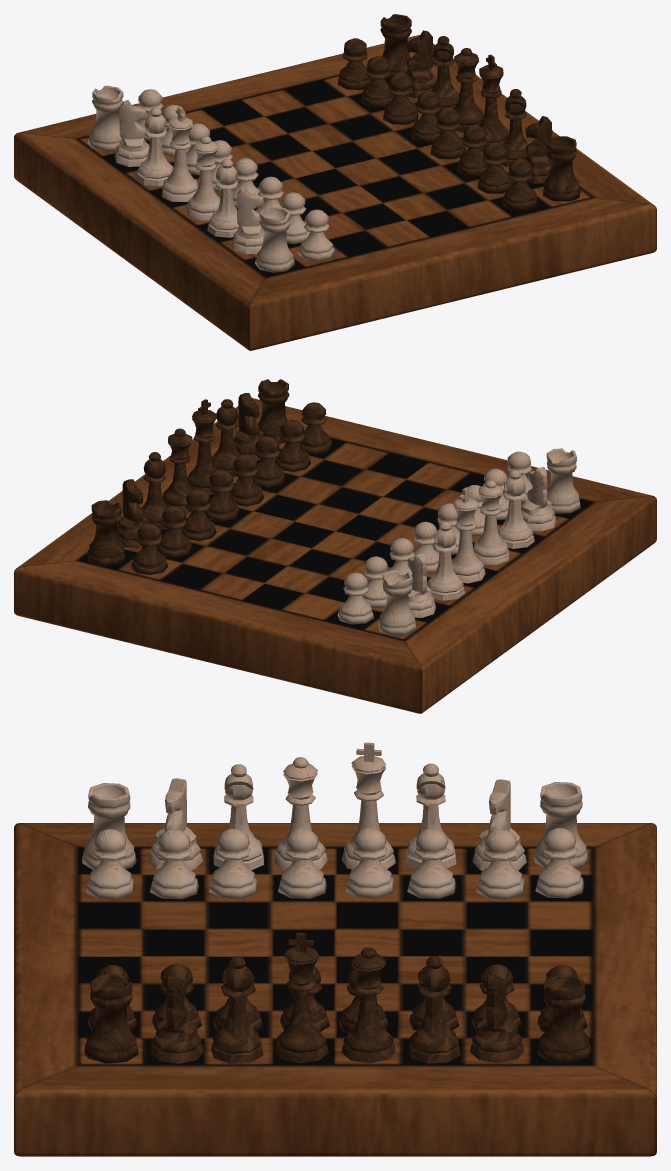
Rendered from wooden-chess-set-90151f.glb.
3 renders of one model, top to bottom at view 1: azimuth 30°, elevation 25°; view 2: azimuth 150°, elevation 25°; view 3: azimuth 270°, elevation 25°, orthographic. The views are drawn at different scales.
Visible parts, largest first — view 1: PropMesh; view 2: PropMesh; view 3: PropMesh.
Boxes of the visible parts, x1,y1,x2,y2 form: PropMesh: (14, 14, 656, 350); PropMesh: (14, 379, 656, 713); PropMesh: (14, 742, 656, 1156).
Bounding box in the file's own units: 0.35 × 0.1108 × 0.35.
Materials: 3 (3 with a texture image).
